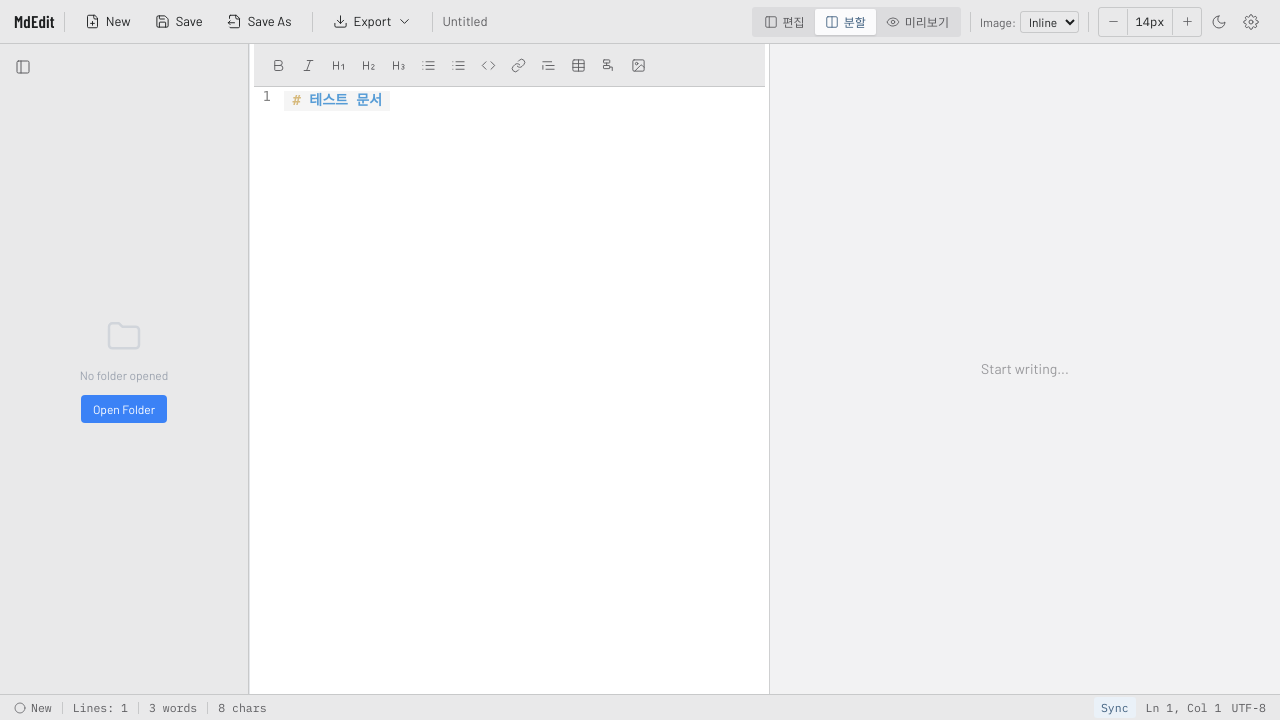
Test: SPEC-EXPORT-002: 내보내기 완료 모달 › AC-001: HTML 내보내기 성공 시 완료 모달이 표시되고 경로가 본문에 포함된다
Click the button "Export".
click(372, 22)  # box top-left (322, 6), bottom-right (423, 36)
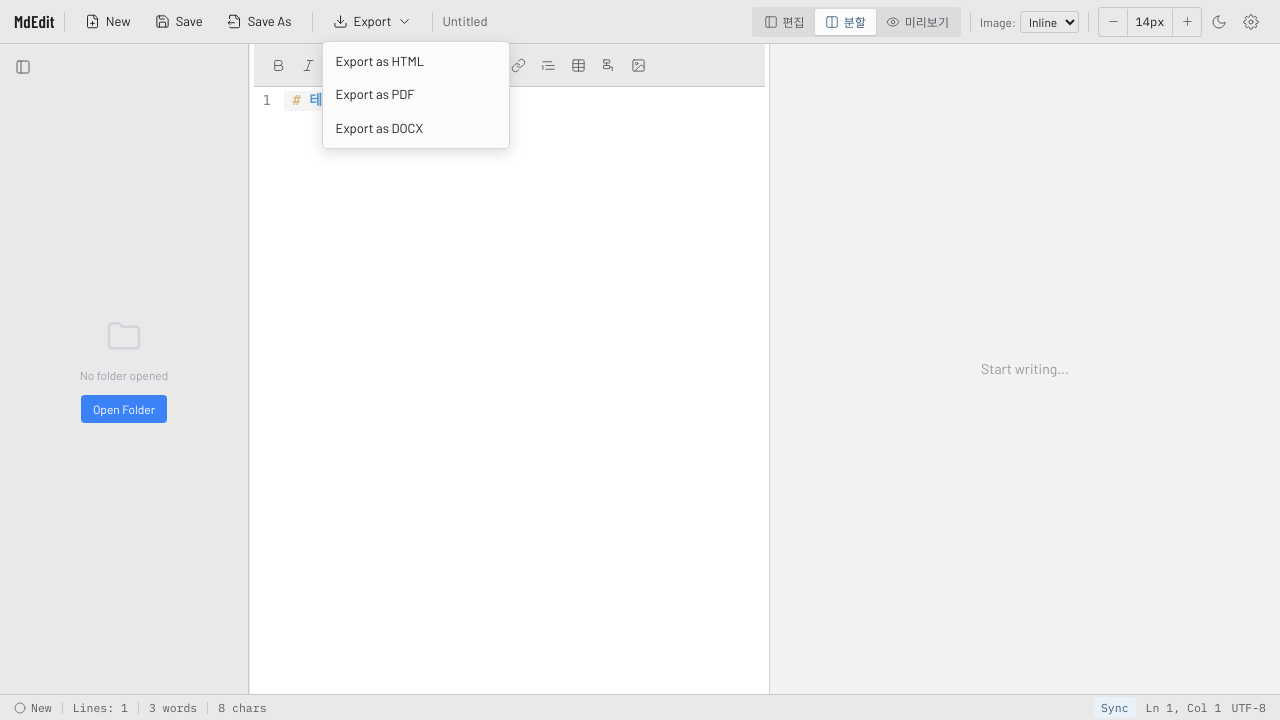
Click the menu item "Export as HTML".
click(416, 61)  # box top-left (326, 44), bottom-right (506, 78)
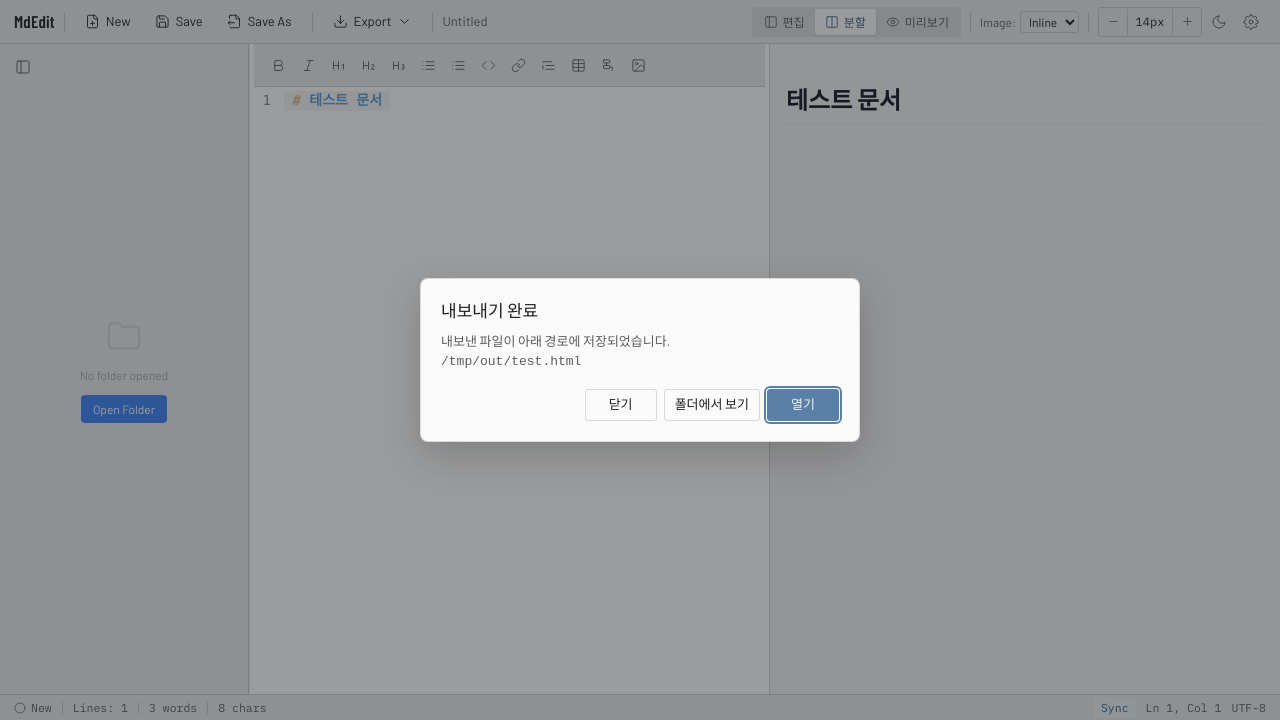
Now the dialog is shown, box top-left (420, 278), bottom-right (860, 442)
Now the heading "내보내기 완료" is shown, box top-left (441, 300), bottom-right (538, 320)
Now the text "/tmp/out/test.html" is shown, box top-left (441, 354), bottom-right (581, 369)
